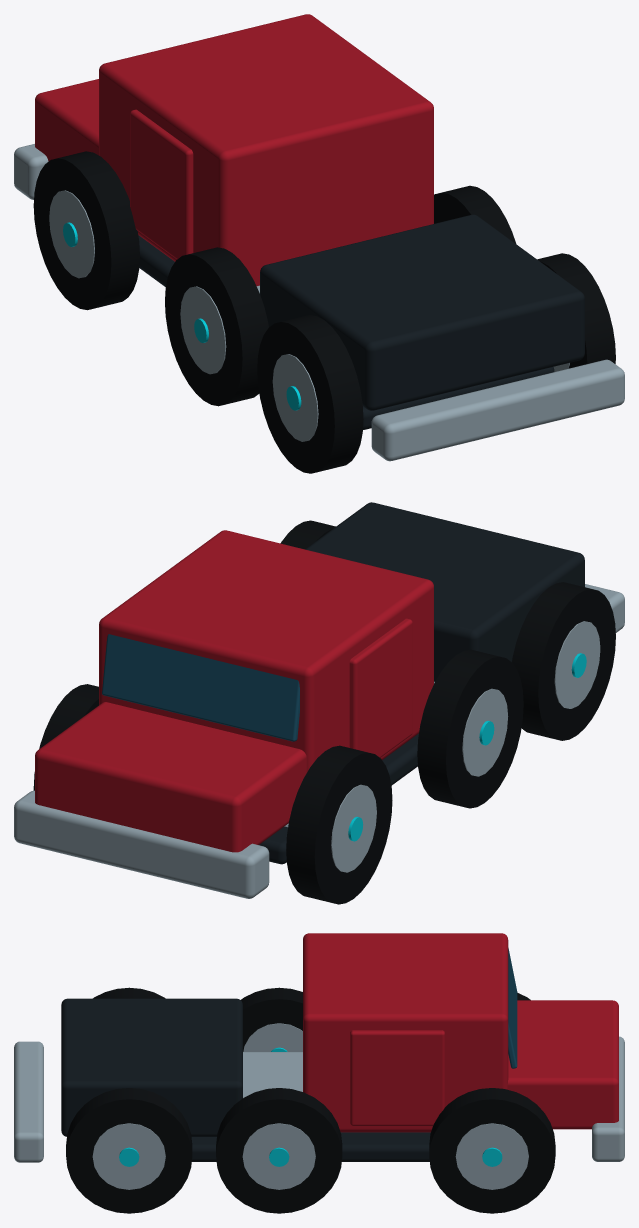
File: titan_forge.glb
The picture shows the model from 3 angles, top to bottom: view 1: azimuth 30°, elevation 25°; view 2: azimuth 150°, elevation 25°; view 3: azimuth 270°, elevation 25°; orthographic projection. The views are drawn at different scales.
Parts seen in each view (by area): view 1: meet_mesh__cab__crew_cell, meet_mesh__cargo_bed__modular_bed, meet_mesh__rear_bumper__recovery_bumper, meet_mesh__wheel_left_2.35__tire, meet_mesh__wheel_left_-2.25__tire, meet_mesh__wheel_left_0.45__tire, meet_mesh__left_door__outer_panel, meet_mesh__hood__power_dome, meet_mesh__wheel_right_2.35__tire, meet_mesh__wheel_left_0.45__rim, meet_mesh__wheel_left_2.35__rim, meet_mesh__wheel_left_-2.25__rim (+3 smaller); view 2: meet_mesh__cab__crew_cell, meet_mesh__hood__power_dome, meet_mesh__cargo_bed__modular_bed, meet_mesh__windshield__armored_glass, meet_mesh__front_bumper__recovery_bumper, meet_mesh__wheel_left_0.45__tire, meet_mesh__wheel_left_-2.25__tire, meet_mesh__wheel_left_2.35__tire, meet_mesh__left_door__outer_panel, meet_mesh__wheel_left_2.35__rim, meet_mesh__wheel_left_-2.25__rim, meet_mesh__wheel_left_0.45__rim (+4 smaller); view 3: meet_mesh__cab__crew_cell, meet_mesh__cargo_bed__modular_bed, meet_mesh__hood__power_dome, meet_mesh__wheel_right_0.45__tire, meet_mesh__wheel_right_2.35__tire, meet_mesh__wheel_right_-2.25__tire, meet_mesh__right_door__outer_panel, meet_mesh__rear_bumper__recovery_bumper, meet_mesh__wheel_right_0.45__rim, meet_mesh__wheel_right_2.35__rim, meet_mesh__wheel_right_-2.25__rim, meet_mesh__chassis__lower_frame (+6 smaller).
Part boxes in pixels (<box>): meet_mesh__cab__crew_cell: <box>99,14,433,286</box>; meet_mesh__cargo_bed__modular_bed: <box>260,214,584,410</box>; meet_mesh__rear_bumper__recovery_bumper: <box>371,359,624,461</box>; meet_mesh__wheel_left_2.35__tire: <box>257,315,363,473</box>; meet_mesh__wheel_left_-2.25__tire: <box>33,151,139,310</box>; meet_mesh__wheel_left_0.45__tire: <box>165,247,268,406</box>; meet_mesh__left_door__outer_panel: <box>130,109,193,259</box>; meet_mesh__hood__power_dome: <box>35,79,98,161</box>; meet_mesh__wheel_right_2.35__tire: <box>537,253,615,368</box>; meet_mesh__wheel_left_0.45__rim: <box>180,286,226,374</box>; meet_mesh__wheel_left_2.35__rim: <box>272,354,318,441</box>; meet_mesh__wheel_left_-2.25__rim: <box>49,190,94,278</box>; meet_mesh__cab__crew_cell: <box>99,530,433,772</box>; meet_mesh__hood__power_dome: <box>35,702,306,852</box>; meet_mesh__cargo_bed__modular_bed: <box>305,502,584,681</box>; meet_mesh__windshield__armored_glass: <box>102,634,299,741</box>; meet_mesh__front_bumper__recovery_bumper: <box>14,790,269,898</box>; meet_mesh__wheel_left_0.45__tire: <box>417,649,523,808</box>; meet_mesh__wheel_left_-2.25__tire: <box>286,745,392,904</box>; meet_mesh__wheel_left_2.35__tire: <box>512,582,615,740</box>; meet_mesh__left_door__outer_panel: <box>349,618,412,757</box>; meet_mesh__wheel_left_2.35__rim: <box>554,621,600,708</box>; meet_mesh__wheel_left_-2.25__rim: <box>331,784,376,872</box>; meet_mesh__wheel_left_0.45__rim: <box>462,688,508,776</box>; meet_mesh__cab__crew_cell: <box>303,933,508,1132</box>; meet_mesh__cargo_bed__modular_bed: <box>61,998,242,1136</box>; meet_mesh__hood__power_dome: <box>507,1000,618,1129</box>; meet_mesh__wheel_right_0.45__tire: <box>216,1088,342,1213</box>; meet_mesh__wheel_right_2.35__tire: <box>66,1088,192,1213</box>; meet_mesh__wheel_right_-2.25__tire: <box>429,1088,555,1213</box>; meet_mesh__right_door__outer_panel: <box>350,1030,444,1125</box>; meet_mesh__rear_bumper__recovery_bumper: <box>14,1041,43,1162</box>; meet_mesh__wheel_right_0.45__rim: <box>242,1123,315,1189</box>; meet_mesh__wheel_right_2.35__rim: <box>92,1123,165,1189</box>; meet_mesh__wheel_right_-2.25__rim: <box>455,1123,528,1189</box>; meet_mesh__chassis__lower_frame: <box>191,1132,430,1161</box>.
Bounding box in the file's own units: 3.42 × 2.58 × 7.74.
